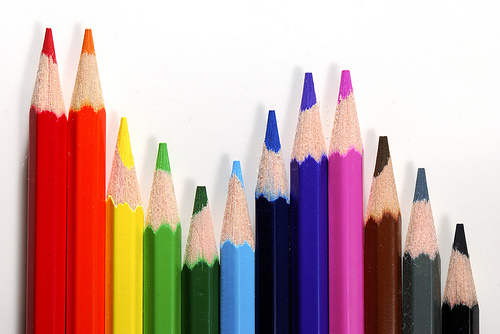pen_tip: (22, 19, 72, 139), (66, 18, 111, 147), (400, 159, 445, 287), (363, 128, 409, 251), (442, 205, 486, 331), (290, 58, 331, 193), (143, 133, 183, 259), (255, 102, 294, 221), (183, 170, 220, 288)
